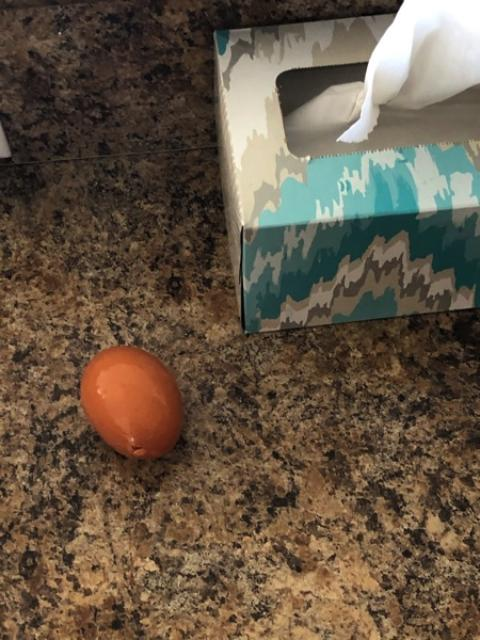Roto: (78, 343, 185, 460)
